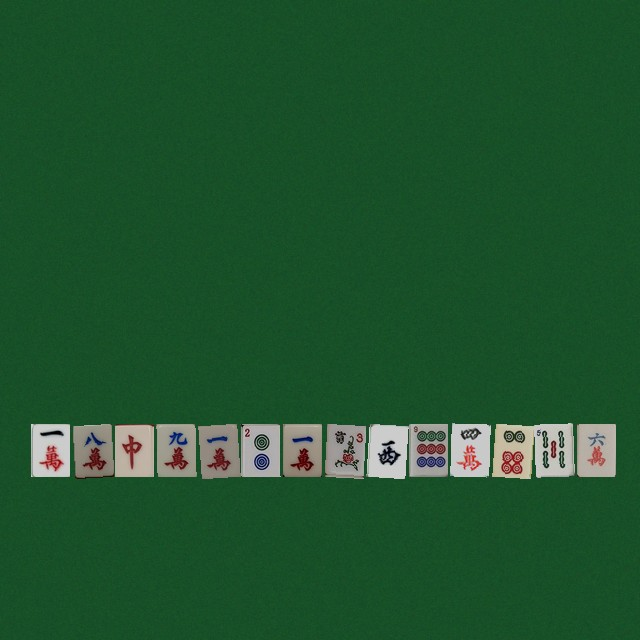tile: (30, 423, 69, 476), (72, 423, 111, 476), (114, 423, 153, 476), (156, 423, 195, 476), (198, 423, 237, 476), (240, 423, 279, 476), (282, 423, 321, 476), (324, 423, 363, 476), (366, 423, 405, 476), (408, 423, 447, 476), (450, 423, 489, 476), (492, 423, 531, 476), (534, 423, 573, 476), (576, 423, 615, 476)
